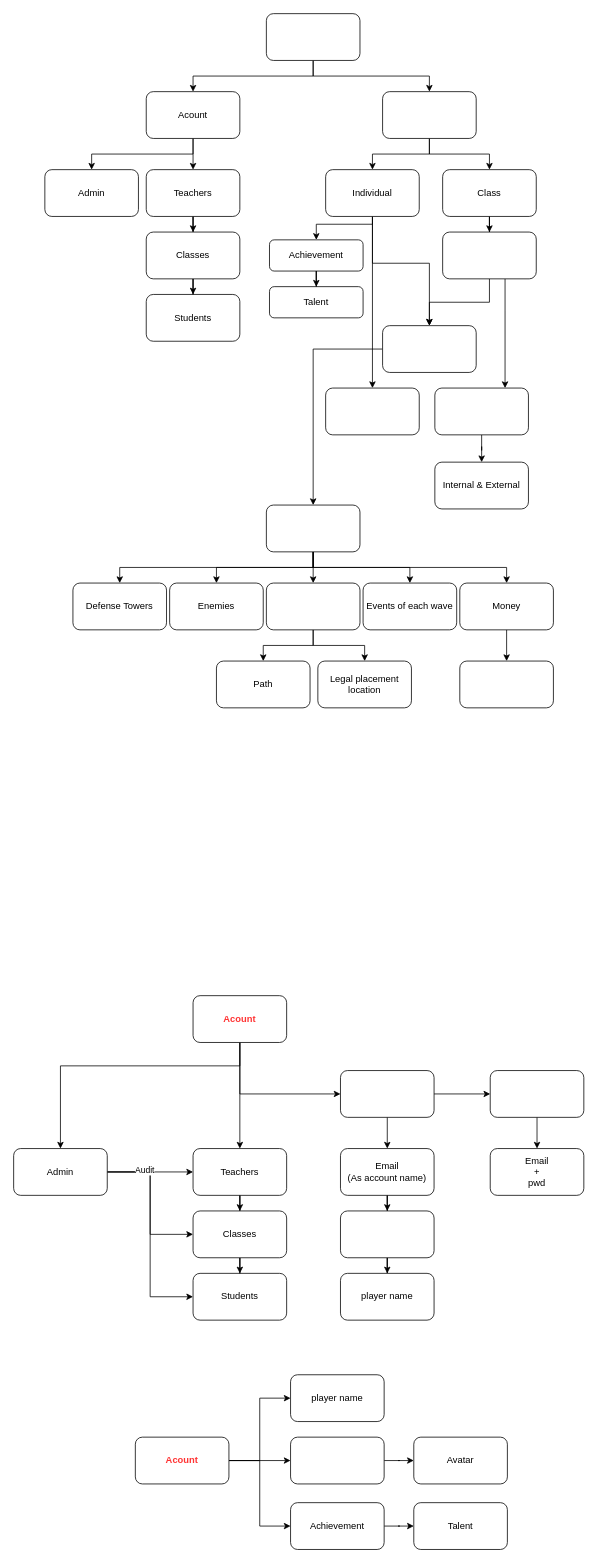
Image size: 597x1563. Some labels were removed from this diagram. The shapes that lost their labels are listed below. From the top down, each one's box as (x1, y1, x2, y2) in pixels, then its label:
(266, 13, 360, 60): Math Defense
(382, 91, 476, 138): Game Architecture
(442, 231, 536, 279): Grabbing Territory
(382, 325, 476, 372): Levels
(325, 387, 419, 435): Global Ranking
(434, 387, 528, 435): Class Ranking
(266, 504, 360, 552): Design of Level
(266, 582, 360, 630): Location of the Start and End points
(459, 660, 553, 708): Tools or Spells
(340, 1070, 434, 1117): Register
(489, 1070, 584, 1117): Log in
(340, 1210, 434, 1258): pwd
(290, 1436, 384, 1484): Profile
